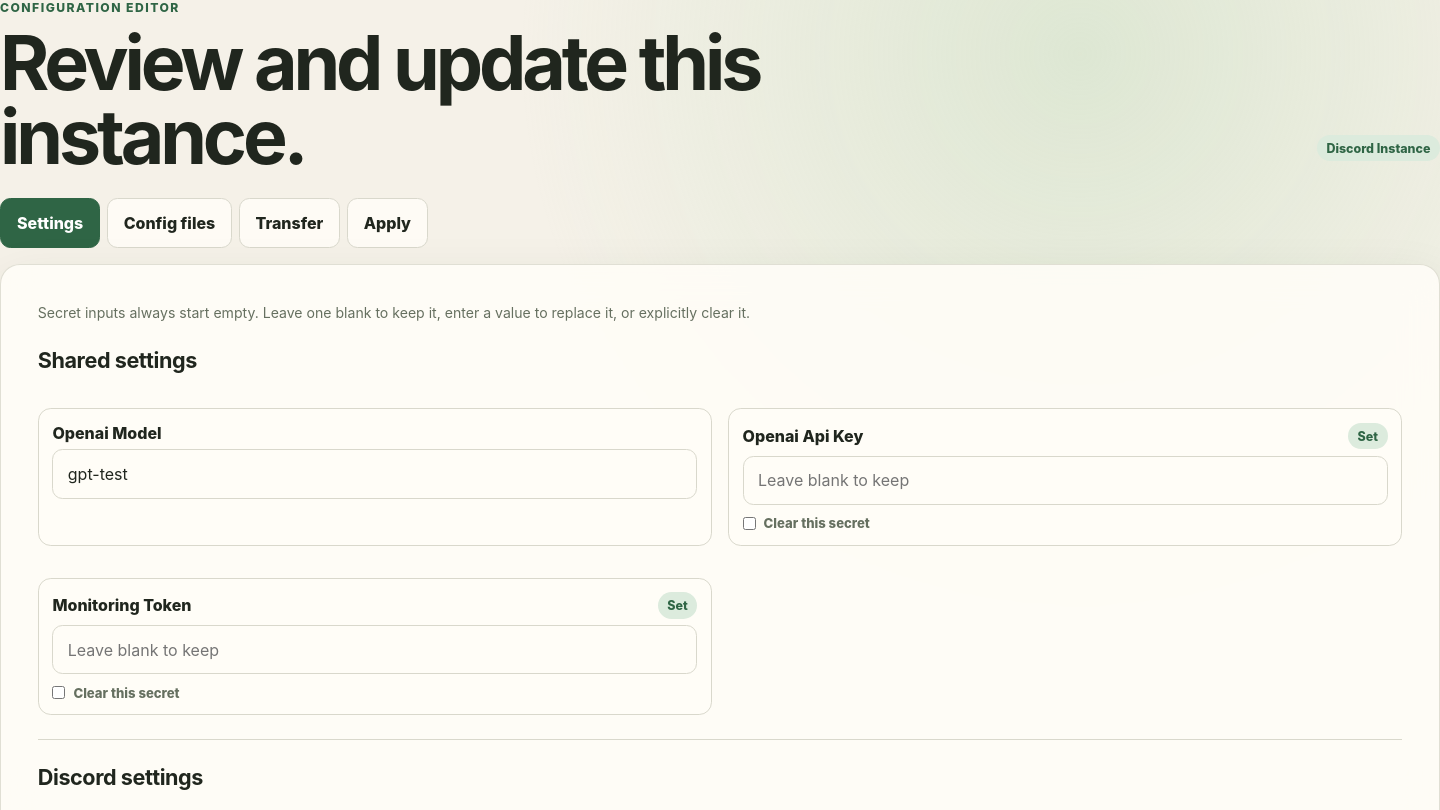
existing configuration editor (jsdom) › renders streamed apply output and the terminal session message
Click the button "Apply" at point(387, 223), box [347, 198, 428, 248]
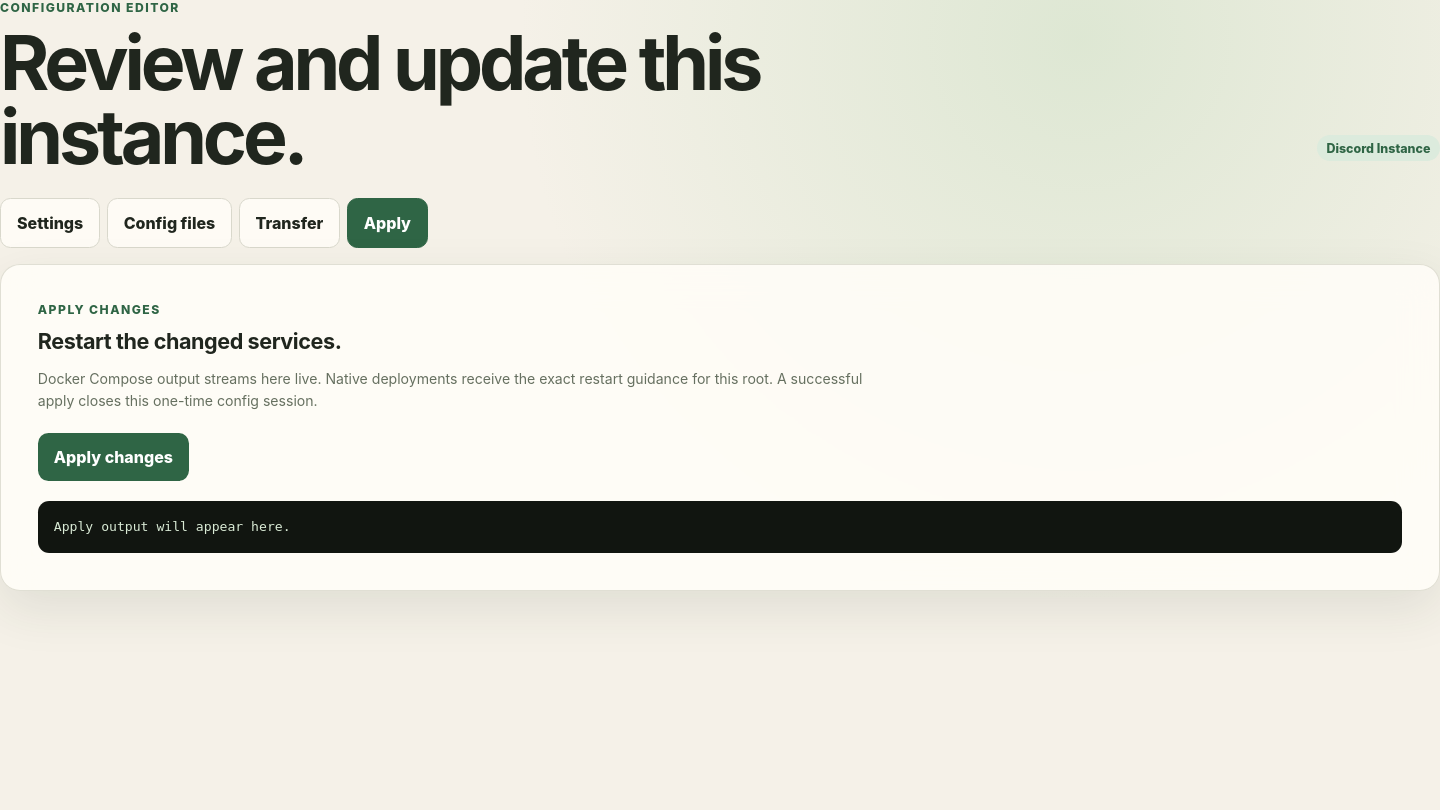
Click the button "Apply changes" at point(113, 457), box [38, 433, 189, 482]
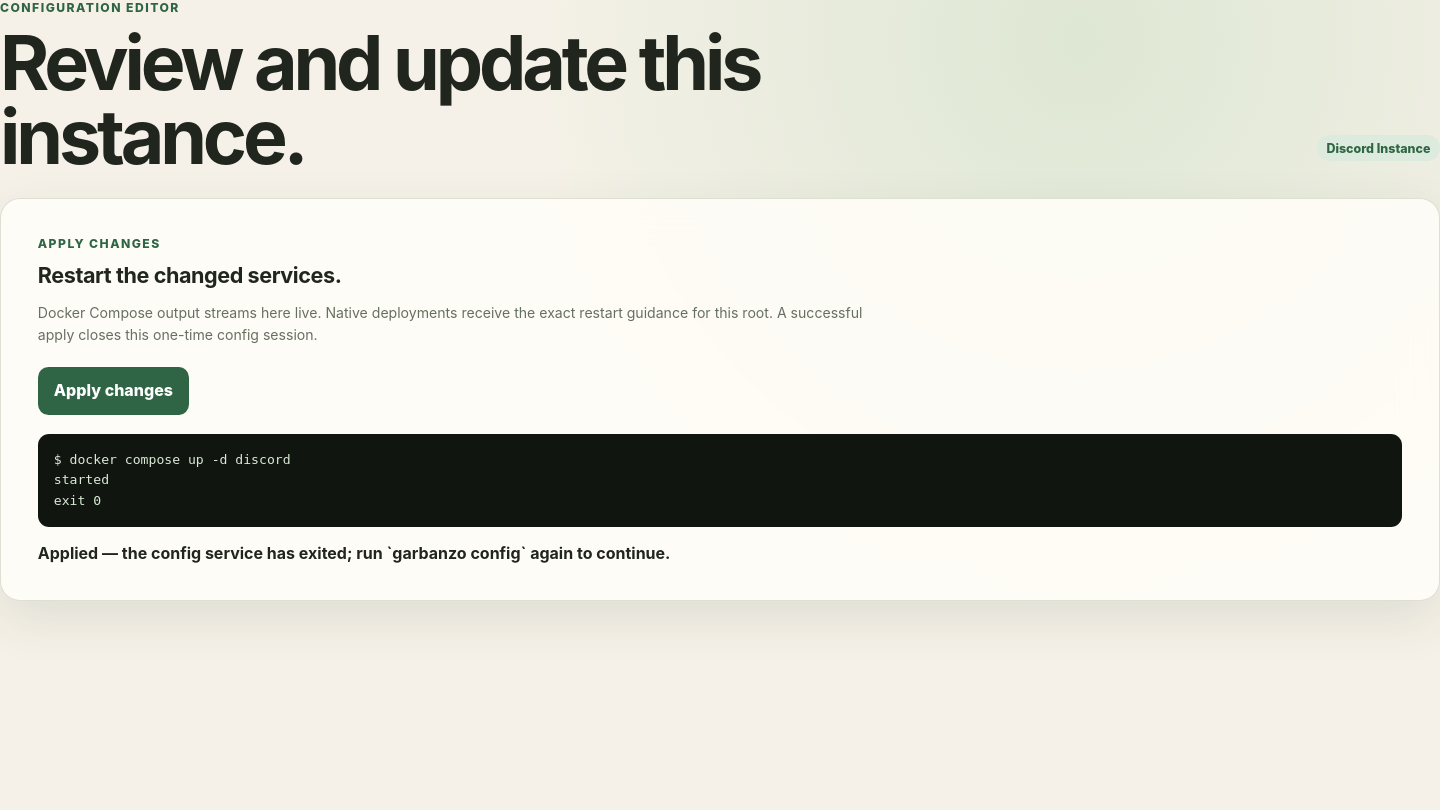
expect the text with class "apply-console" shows "started": met, box [54, 452, 291, 508]
expect the text "Applied — the config service has exited" is shown: met, box [38, 543, 670, 563]
